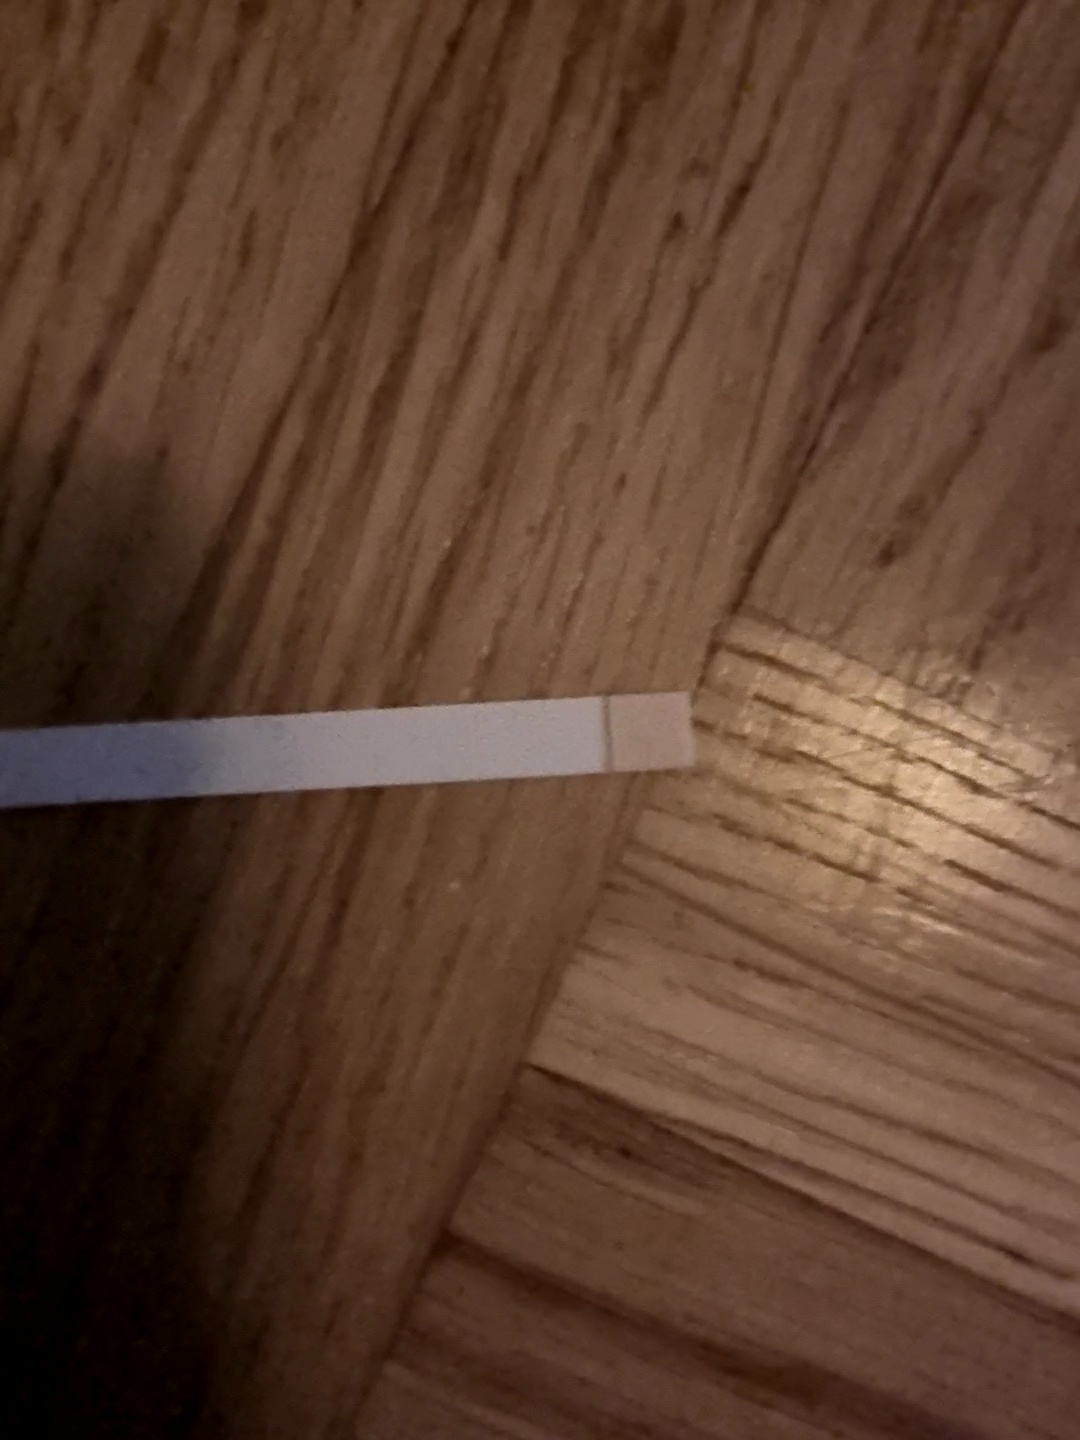keto-tip: (600, 686, 700, 776)
